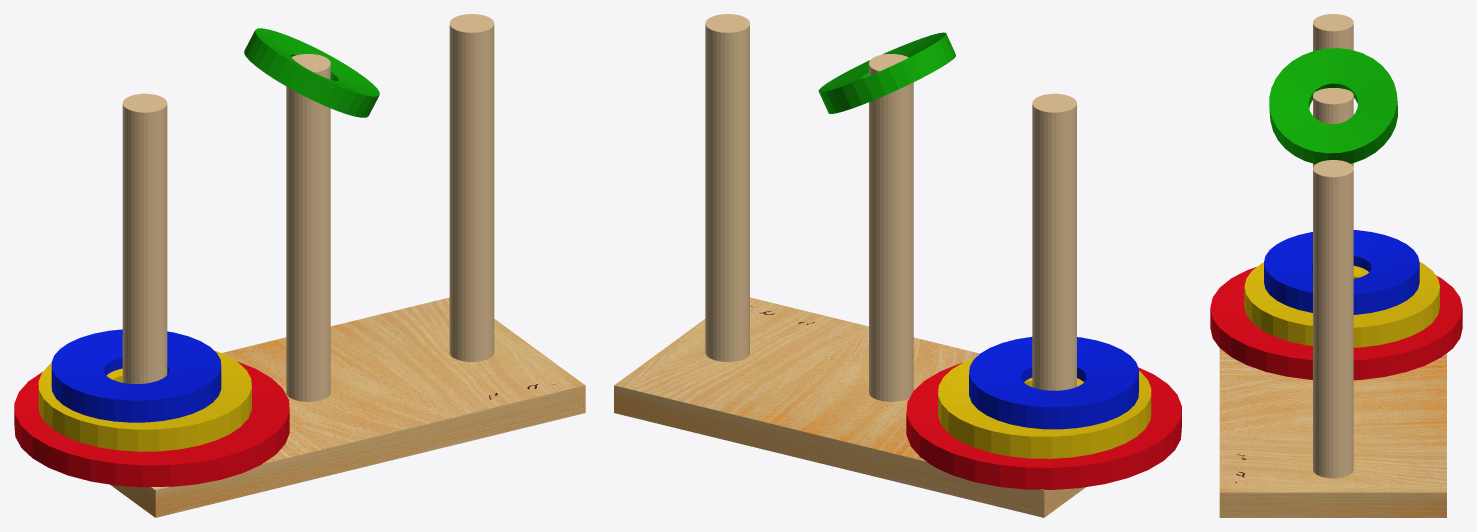
The model's file is map_objects_hanoi.fbx.
3 views of the same model, side by side, from view 1: azimuth 30°, elevation 25°; view 2: azimuth 150°, elevation 25°; view 3: azimuth 270°, elevation 25° (orthographic). The views are drawn at different scales.
Parts seen in each view (by area): view 1: Cube; view 2: Cube; view 3: Cube.
Boxes of the visible parts, x1=… form: Cube: x1=14, y1=14, x2=585, y2=517; Cube: x1=614, y1=14, x2=1181, y2=517; Cube: x1=1210, y1=14, x2=1462, y2=517.
Size of the model in its own units: 299 by 227 by 146.
Materials: 7 (2 with a texture image).
